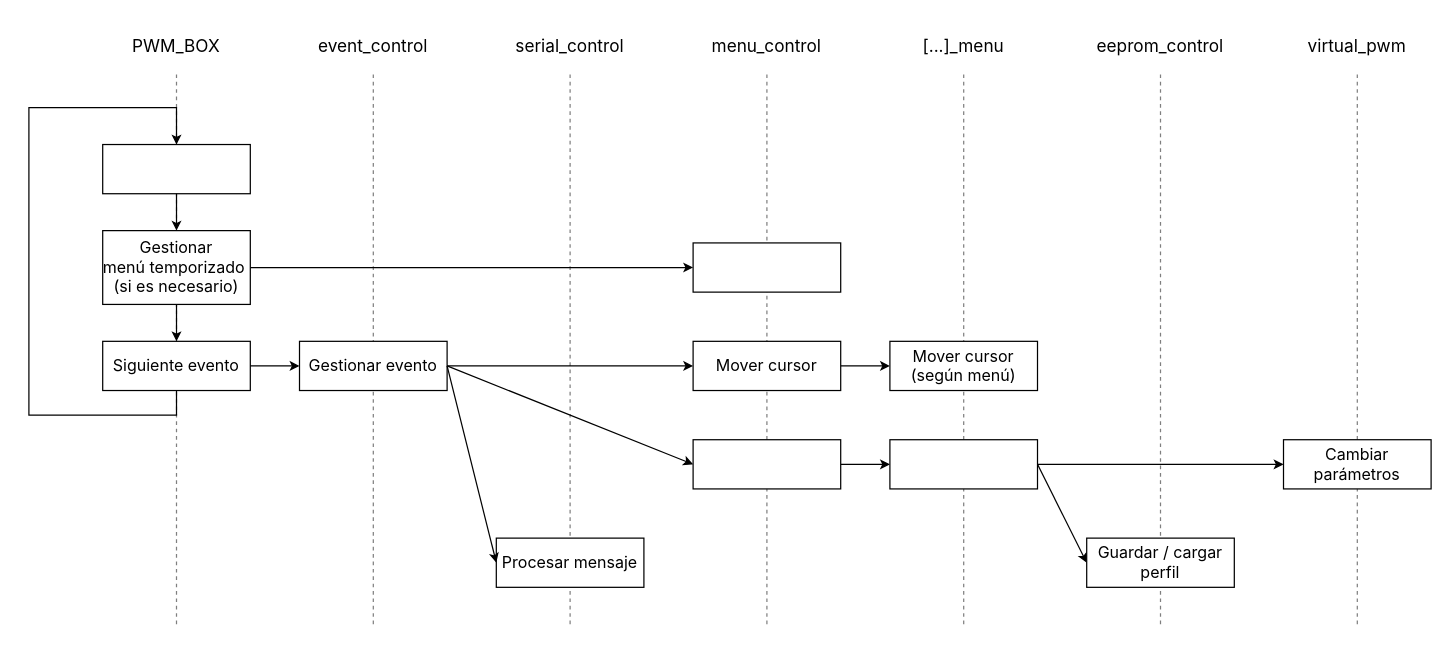
This 1453x647 diagram has some shape labels left out. Each missing label, with the box of its shape:
Actualizar tiempo: (101, 143, 250, 194)
Cambiar menú: (692, 242, 841, 292)
Realizar acción (según menú): (889, 438, 1038, 489)
Seleccionar: (692, 438, 841, 489)
